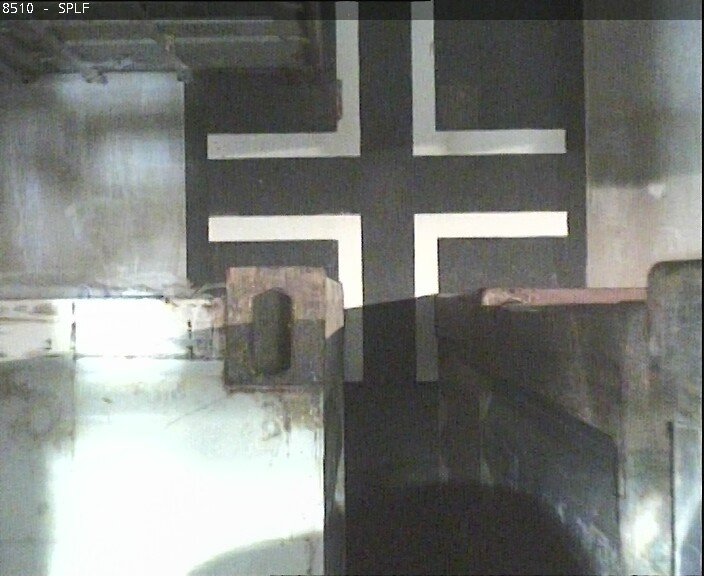groundmarker_1: (206, 207, 562, 377), (209, 1, 562, 161)
